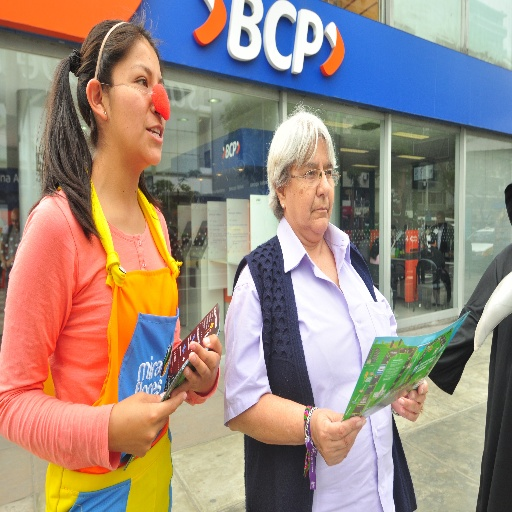hand: (110, 390, 187, 459), (168, 331, 222, 396), (314, 410, 368, 468), (391, 378, 427, 421)
